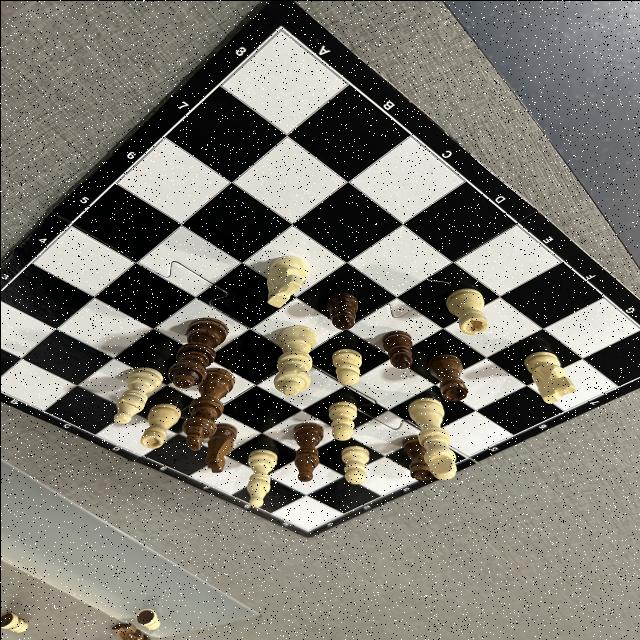Black-Bishop: (292, 422, 323, 481)
Black-King: (180, 366, 233, 449)
Black-Knight: (204, 422, 236, 472), (111, 622, 150, 640)
Black-Pawn: (380, 330, 412, 368), (325, 291, 357, 329)
Black-Queen: (166, 316, 228, 388)
Black-Rook: (426, 352, 468, 400), (400, 434, 434, 480)
White-Bishop: (112, 366, 162, 424), (245, 448, 277, 506)
White-King: (406, 396, 456, 480)
White-Knight: (522, 349, 576, 404), (266, 254, 306, 306)
White-Pawn: (330, 347, 362, 385), (328, 400, 357, 440), (338, 444, 368, 482), (0, 611, 28, 633)
White-Queen: (272, 324, 316, 394)
White-Rook: (443, 287, 488, 335), (140, 402, 180, 448)
